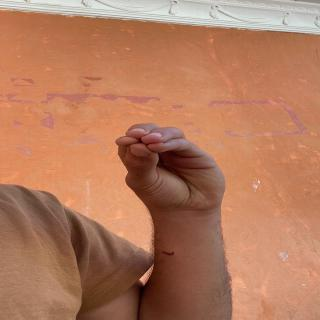HA: (115, 123, 238, 215)
